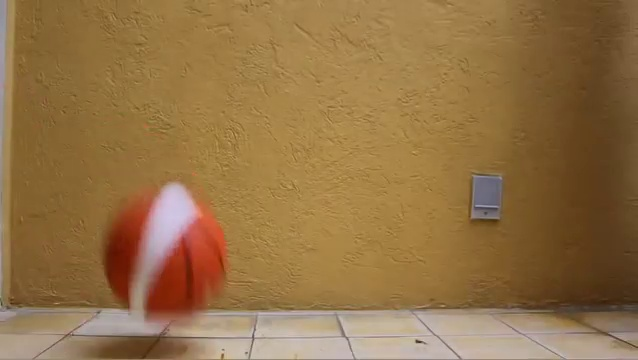ball: (102, 178, 233, 324)
